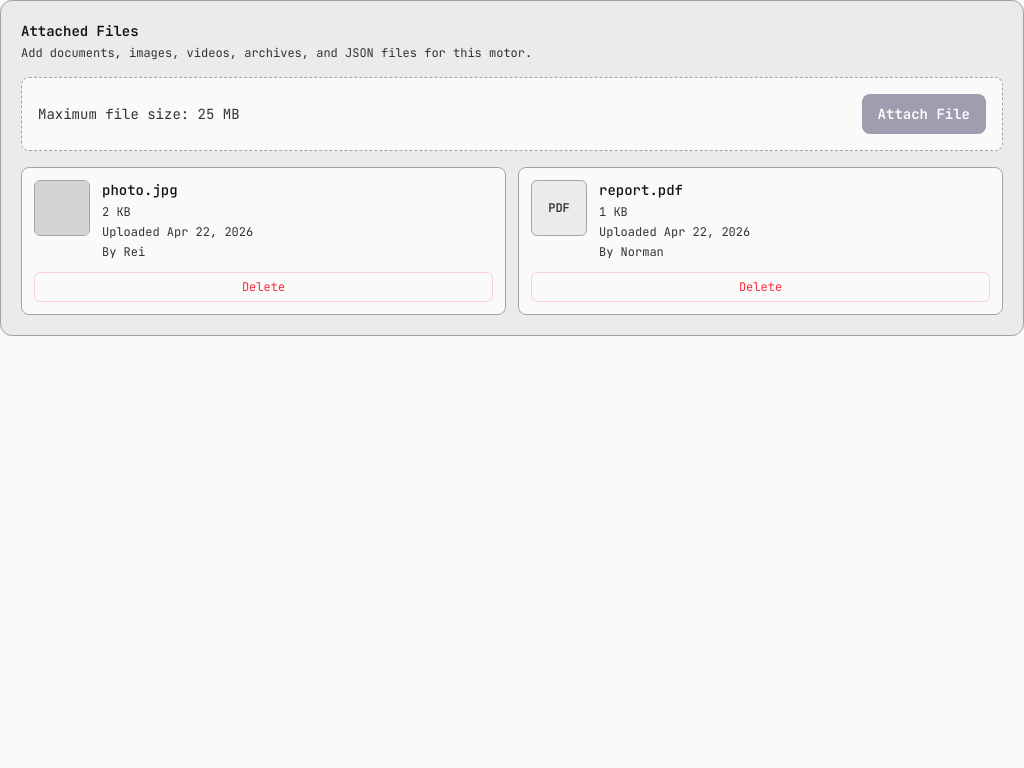
MotorFilesSection › opens and closes the viewer modal with Escape key
Click the button "photo.jpg 2 KB Uploaded Apr 22, 2026 By Rei".
click(62, 208)  # box [22, 168, 505, 272]
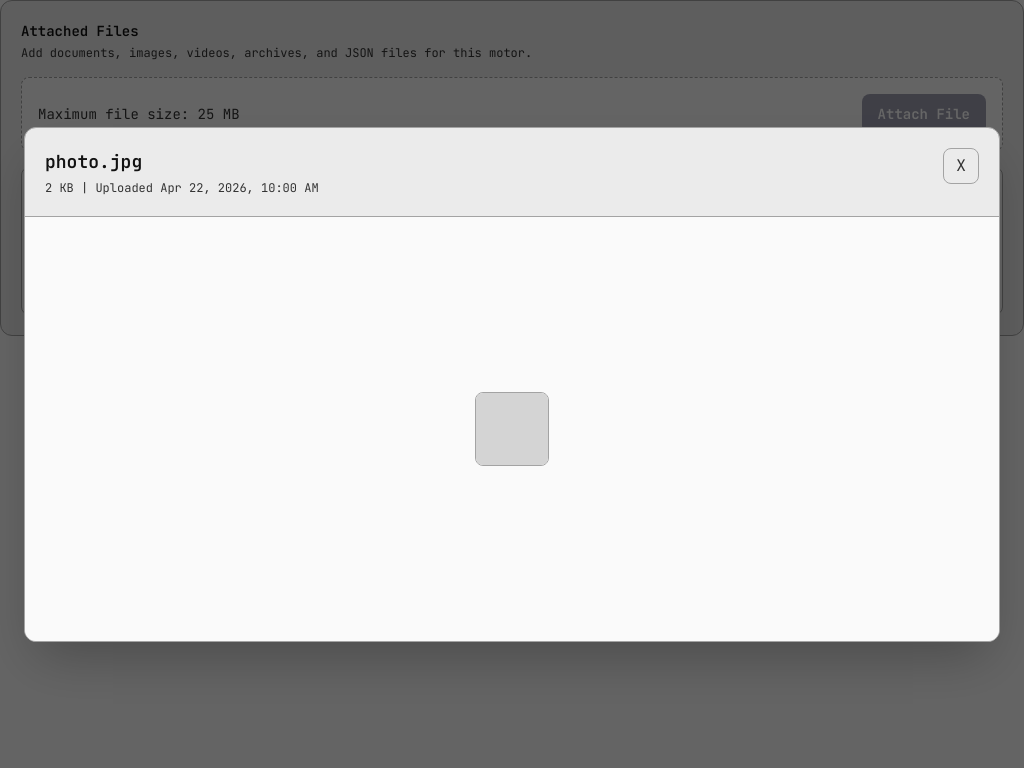
Expected: the dialog is shown
Press Escape
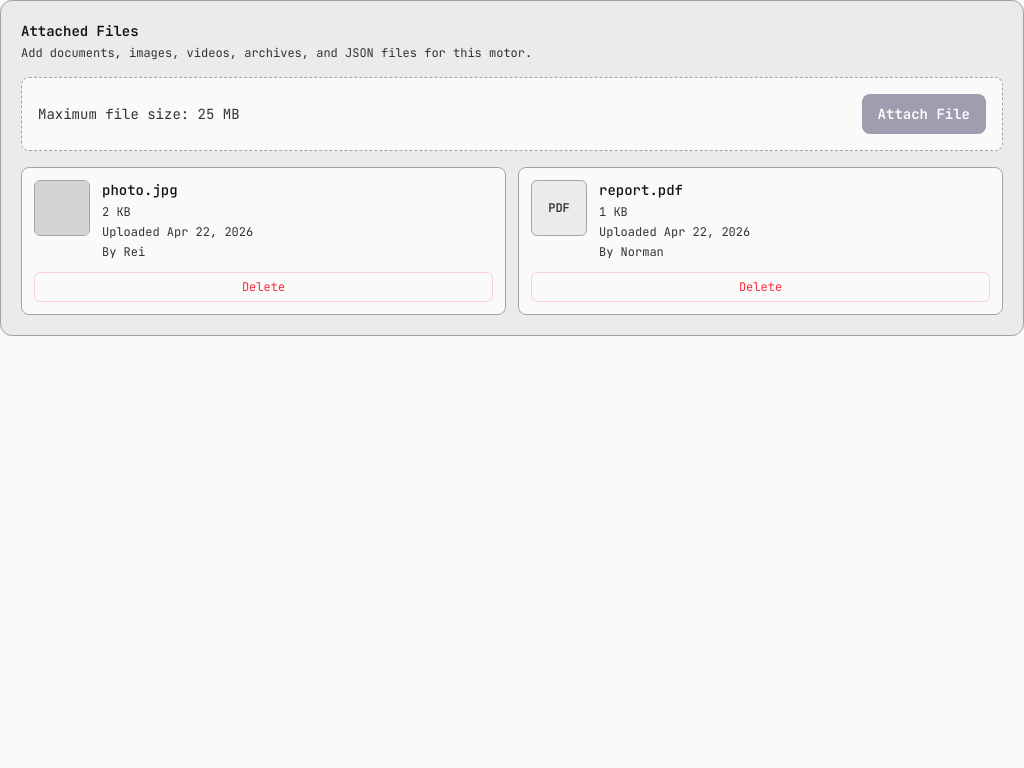
Expected: the dialog is gone
